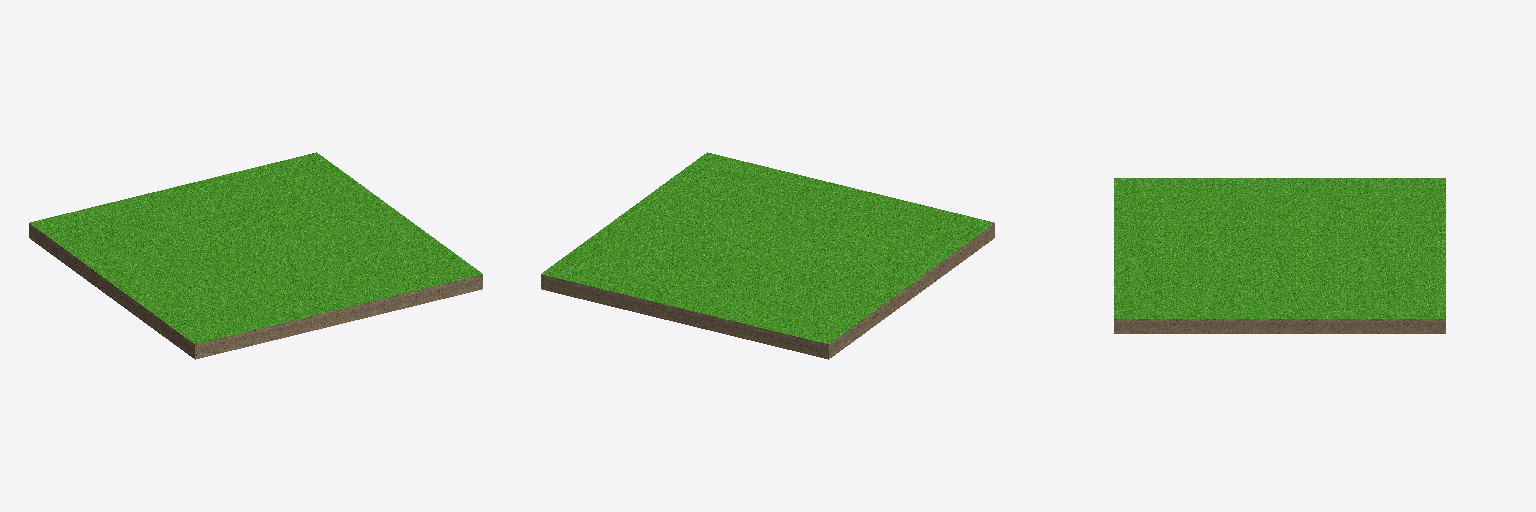
3 renders of one model, left to right at view 1: azimuth 30°, elevation 25°; view 2: azimuth 150°, elevation 25°; view 3: azimuth 270°, elevation 25°, orthographic.
Parts seen in each view (by area): view 1: Object002, Object001; view 2: Object002, Object001; view 3: Object002, Object001.
Part boxes in pixels (left/top/right/bottom): Object002: left=30, top=152, right=481, bottom=343; Object001: left=29, top=223, right=482, bottom=359; Object002: left=542, top=152, right=993, bottom=343; Object001: left=541, top=223, right=994, bottom=359; Object002: left=1114, top=178, right=1445, bottom=318; Object001: left=1114, top=319, right=1445, bottom=333.
Bounding box in the file's own units: 100000 × 5000 × 100000.
Materials: 3 (2 with a texture image).